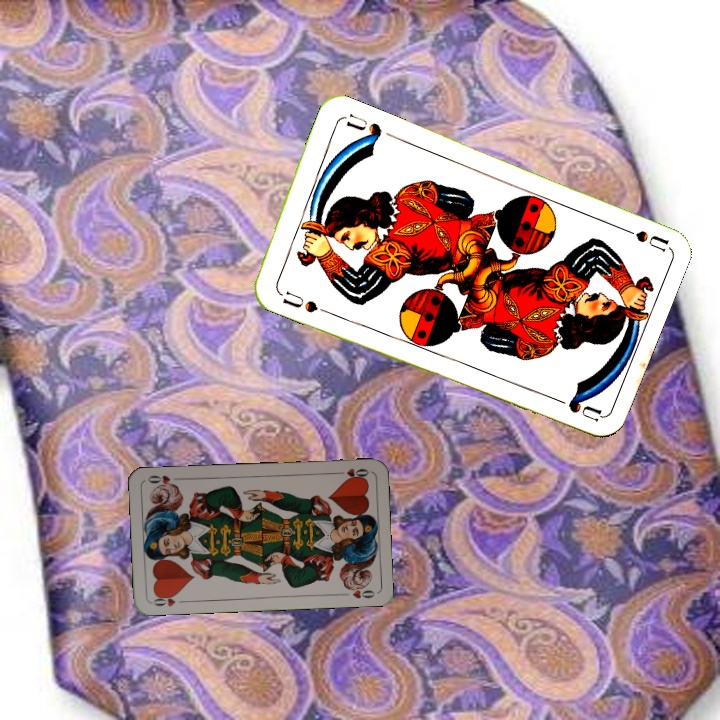HO: (148, 590, 189, 609), (331, 464, 371, 482)
SU: (611, 221, 670, 254), (278, 287, 329, 316)
